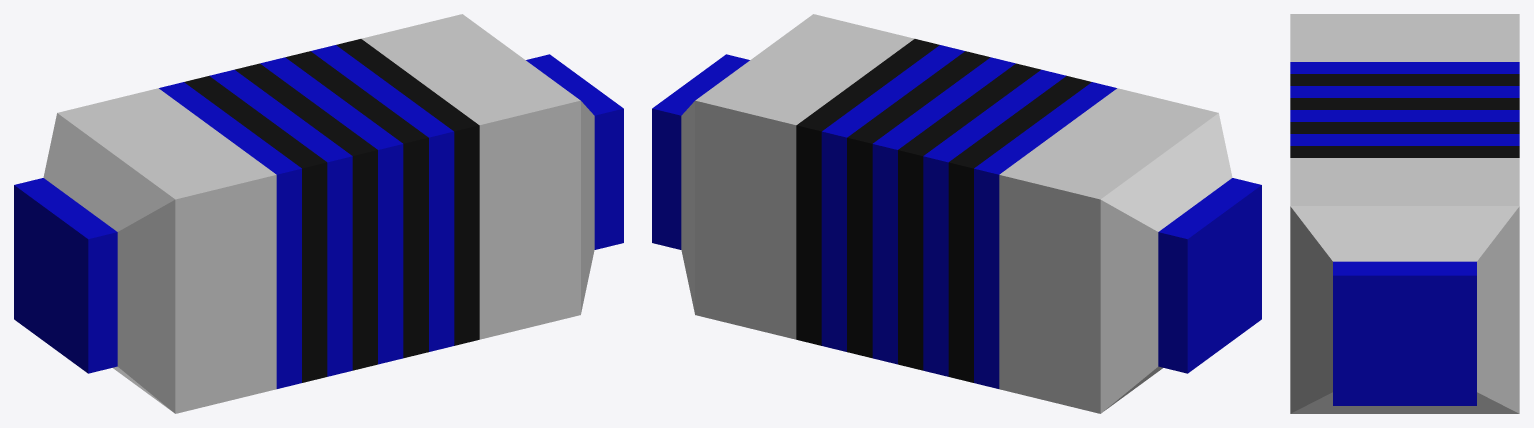
Rendered from Hydroponics.obj.
3 renders of one model, left to right at view 1: azimuth 30°, elevation 25°; view 2: azimuth 150°, elevation 25°; view 3: azimuth 270°, elevation 25°, orthographic. The views are drawn at different scales.
Parts seen in each view (by area): view 1: Cube.005_Cube.002; view 2: Cube.005_Cube.002; view 3: Cube.005_Cube.002.
Boxes of the visible parts, x1=… form: Cube.005_Cube.002: x1=14, y1=14, x2=623, y2=413; Cube.005_Cube.002: x1=652, y1=14, x2=1261, y2=413; Cube.005_Cube.002: x1=1290, y1=14, x2=1519, y2=413.
Size of the model in its own units: 2.26 by 0.8642 by 0.8642.
